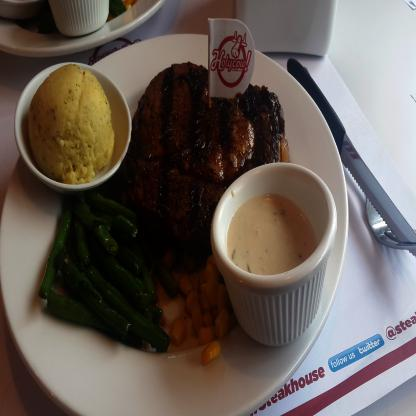Carne: (133, 72, 282, 237)
